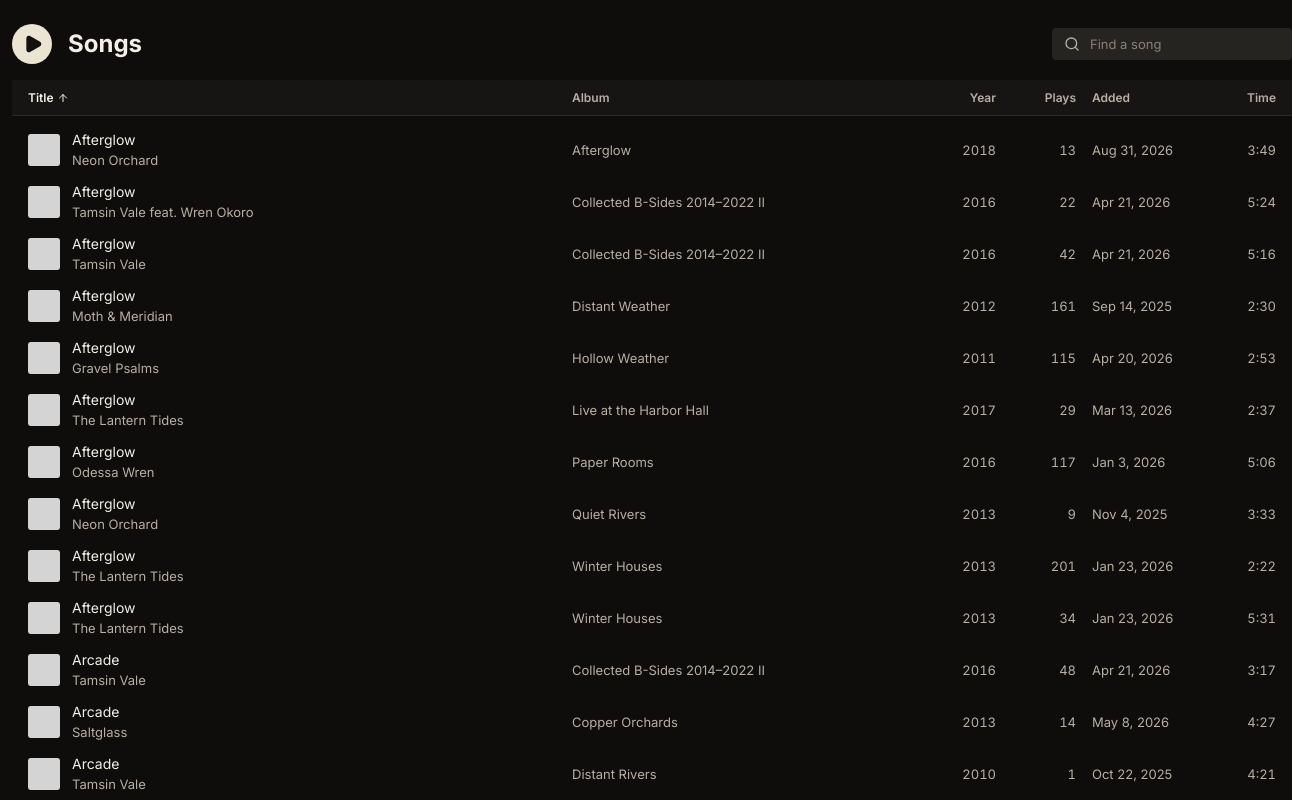
Test case: the table › finds by words, and says when nothing matches
Type "Daybreak" into the search field labelled "Find a song" at (1184, 44), box x1=1088 y1=28 x2=1280 y2=60
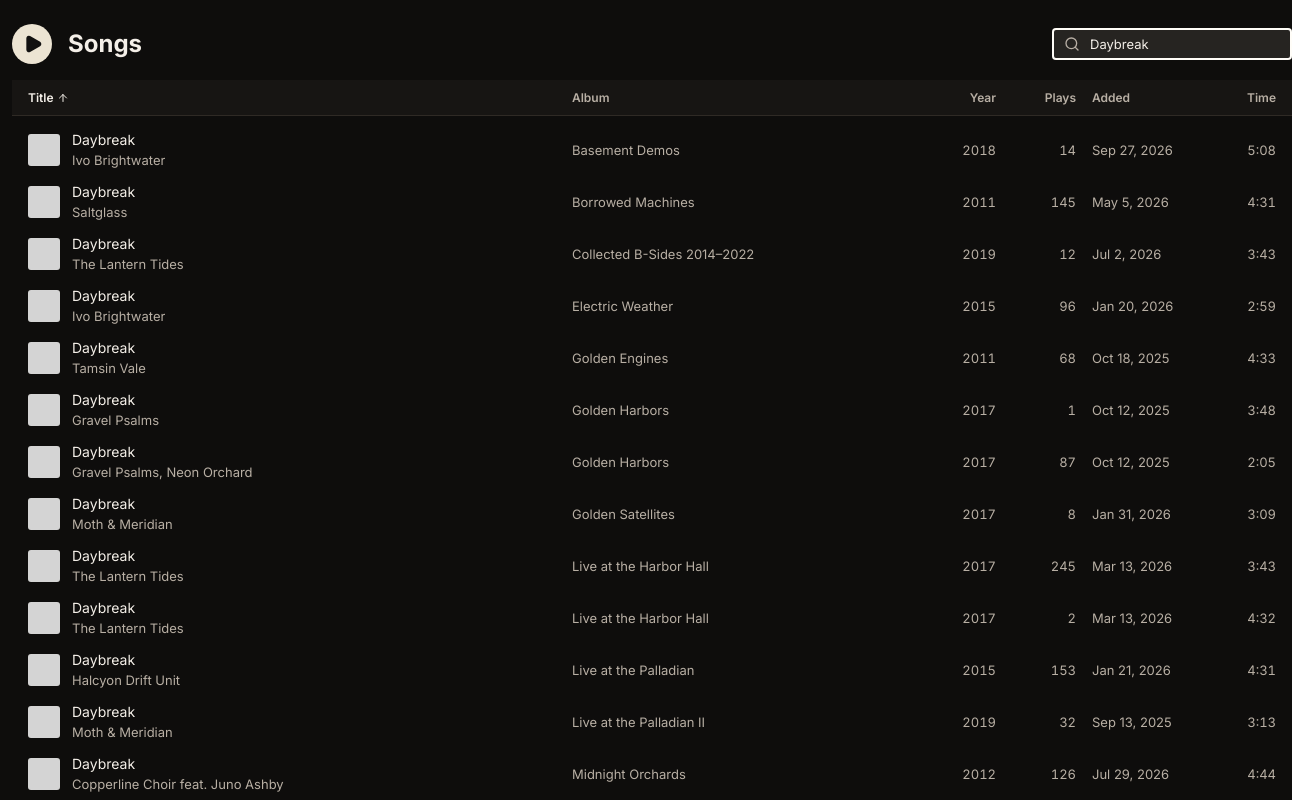
Replace the text in the search field named "Find a song" with "zzzz qqqq" at (1184, 44), box x1=1088 y1=28 x2=1280 y2=60
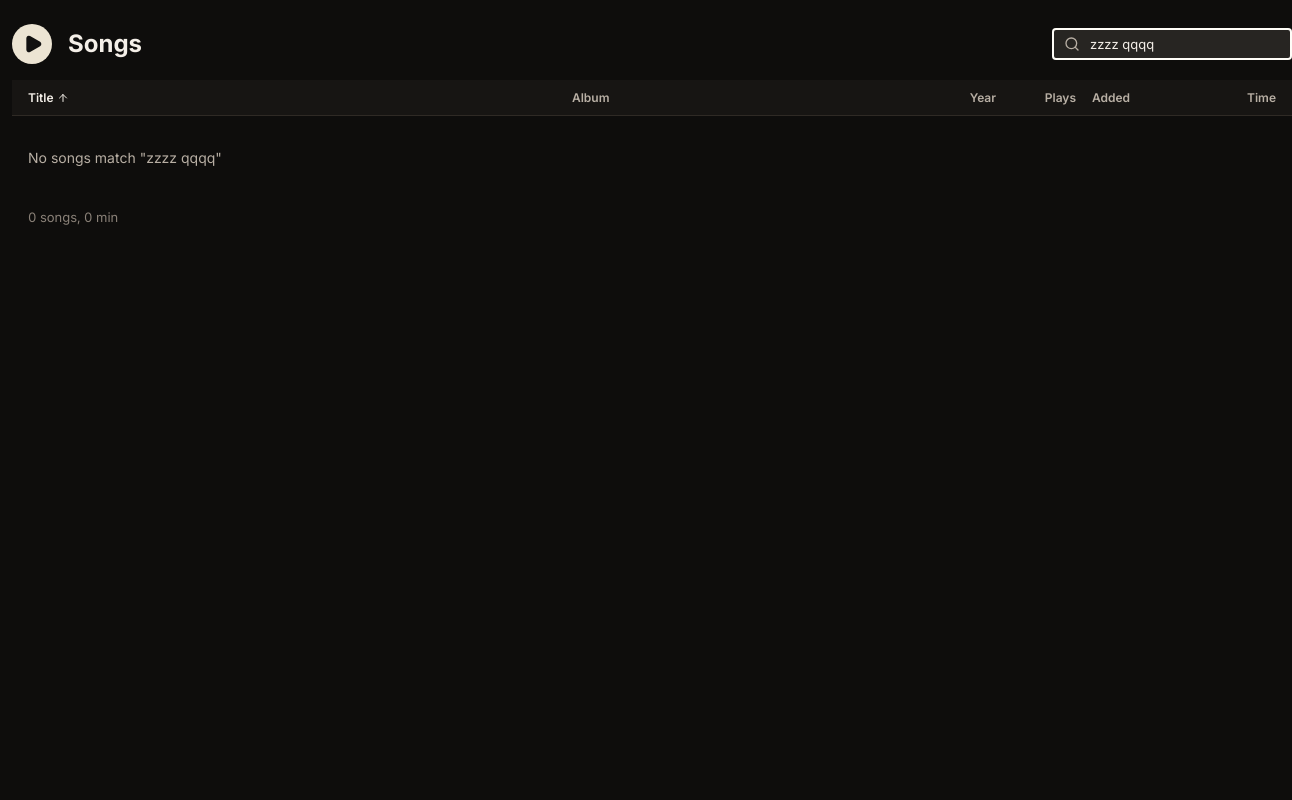
Check: the text "No songs match \"zzzz qqqq\"" is shown, box x1=28 y1=149 x2=222 y2=166
